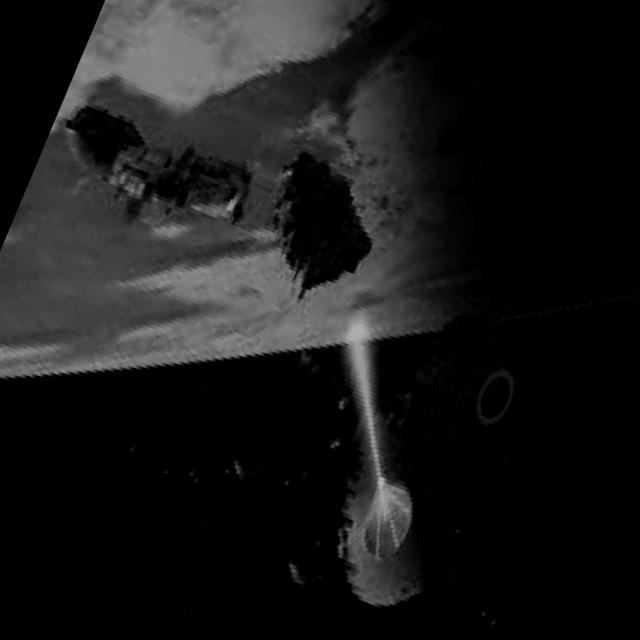death-stars: (334, 311, 521, 608)
